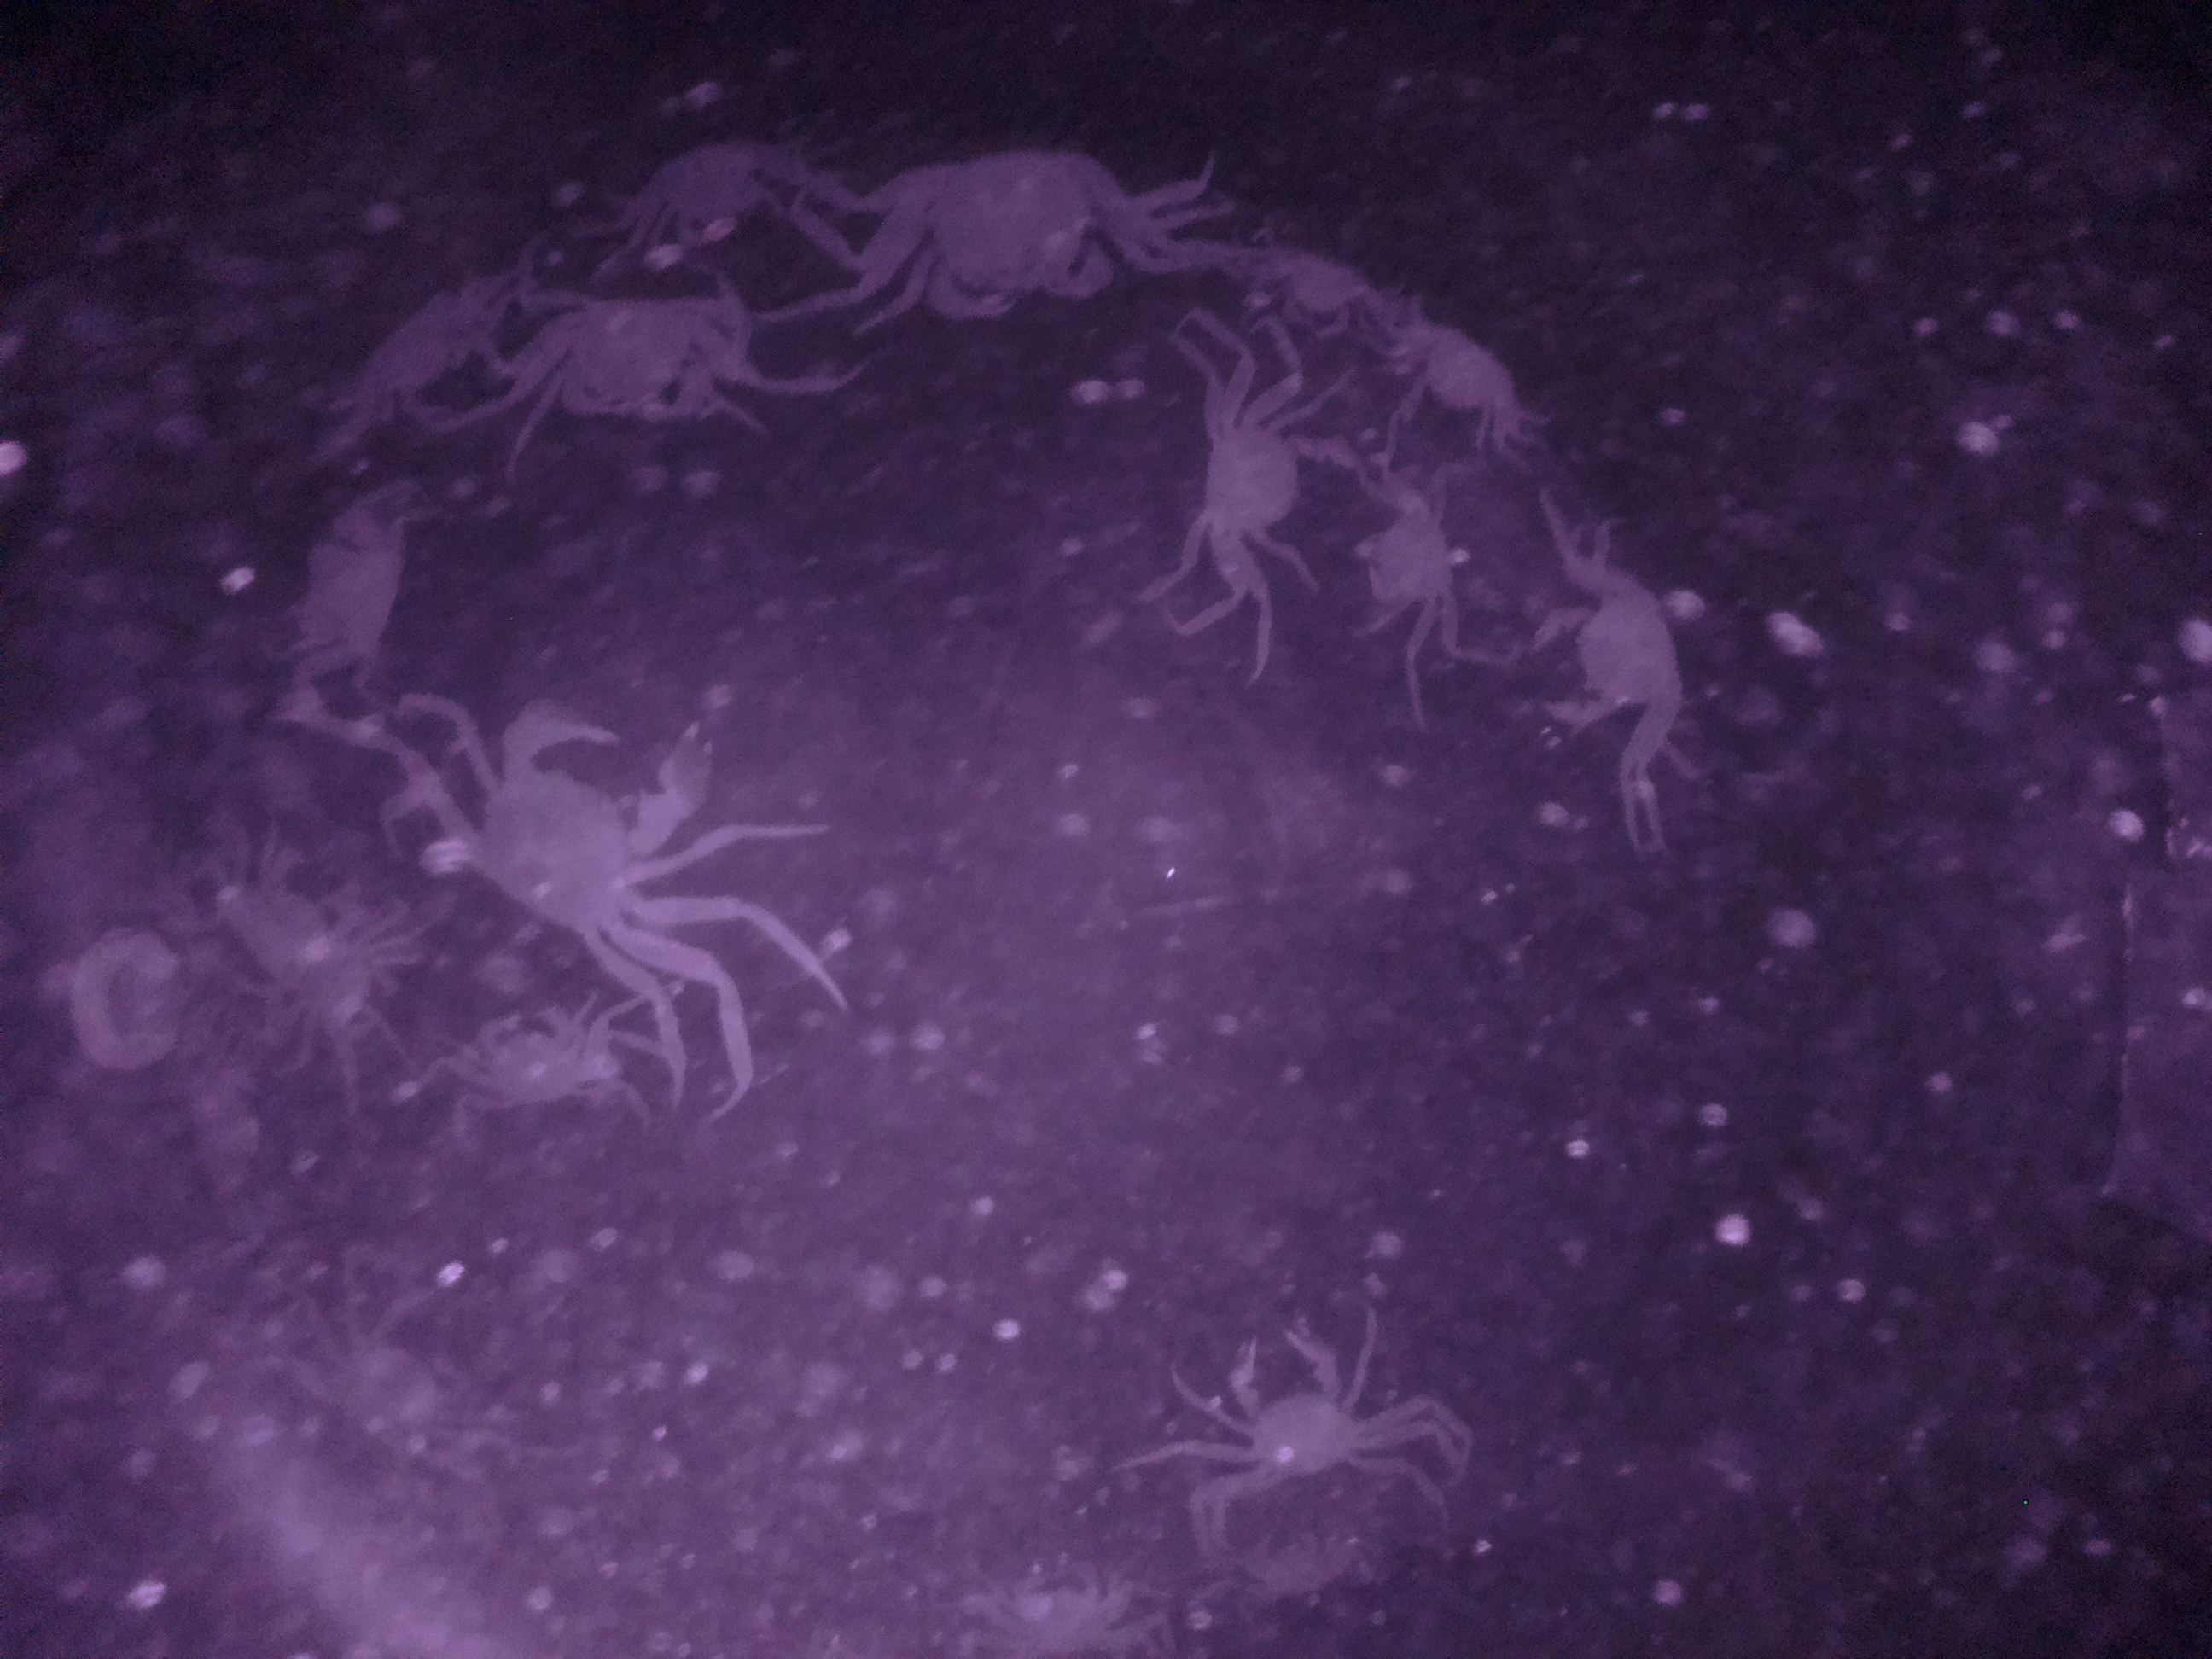Crab: (873, 127, 1136, 328), (1188, 357, 1366, 633), (493, 277, 754, 441), (1190, 1309, 1395, 1509), (1369, 282, 1559, 455), (1327, 467, 1475, 662), (1527, 652, 1750, 769), (439, 999, 613, 1133), (1228, 221, 1379, 357)
